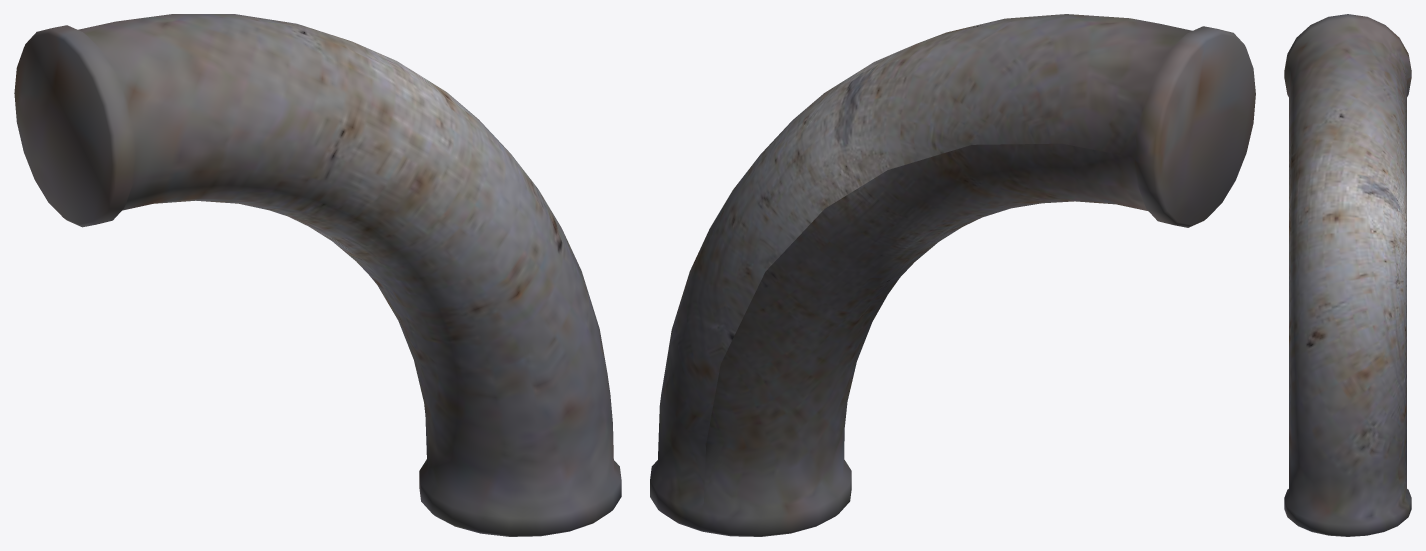
File: Pipe03-model.fbx
The picture shows the model from 3 angles, left to right: view 1: azimuth 30°, elevation 25°; view 2: azimuth 150°, elevation 25°; view 3: azimuth 270°, elevation 25°; orthographic projection. The views are drawn at different scales.
Visible parts, largest first — view 1: Cylinder03_001; view 2: Cylinder03_001; view 3: Cylinder03_001.
Boxes of the visible parts, box(x1,y1,x2,y2) form: Cylinder03_001: box(14, 14, 621, 536); Cylinder03_001: box(650, 14, 1255, 536); Cylinder03_001: box(1284, 14, 1411, 536).
Bounding box in the file's own units: 10 × 10 × 3.23.
Materials: 1 (1 with a texture image).
